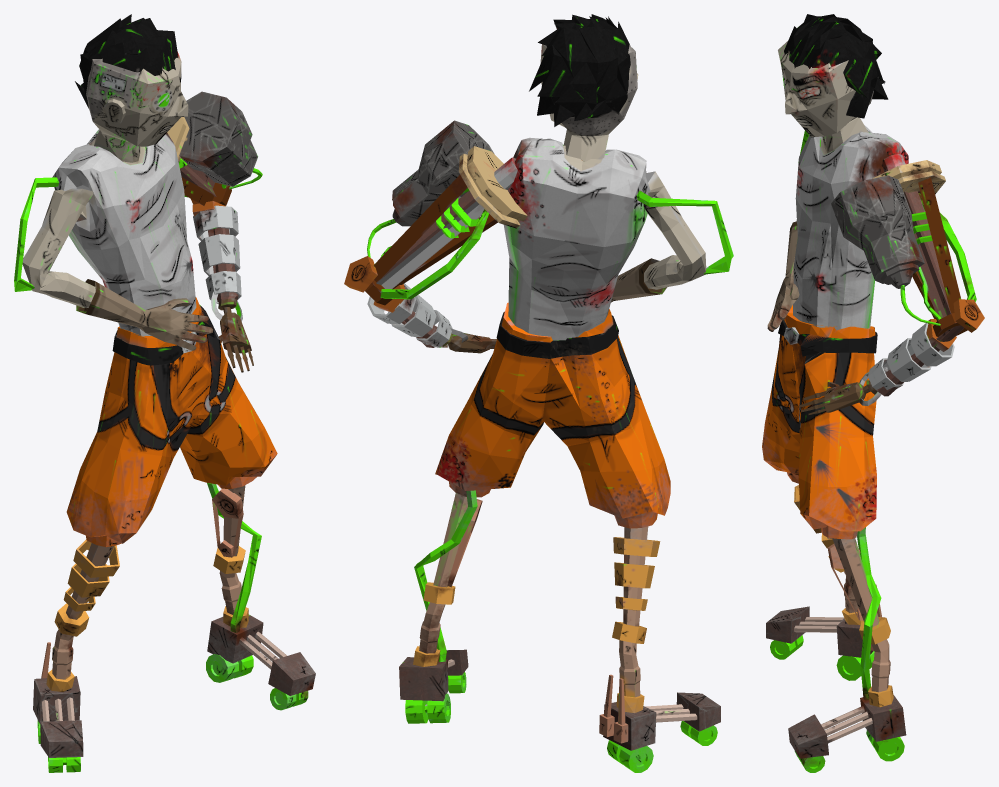
File: CyborgFINALAnimation_000001.obj
3 views of the same model, side by side, from view 1: azimuth 30°, elevation 25°; view 2: azimuth 150°, elevation 25°; view 3: azimuth 270°, elevation 25° (orthographic). The views are drawn at different scales.
Visible parts, largest first — view 1: CyborgMesh_Cube.002; view 2: CyborgMesh_Cube.002; view 3: CyborgMesh_Cube.002.
Part boxes in pixels (box(x1,y1,x2,y2)): CyborgMesh_Cube.002: box(14, 14, 315, 772); CyborgMesh_Cube.002: box(344, 14, 733, 772); CyborgMesh_Cube.002: box(762, 14, 984, 772).
Size of the model in its own units: 4.24 by 9.59 by 2.83.
